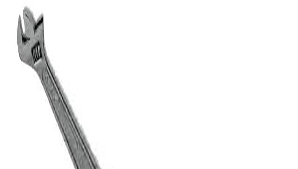Wrench: (12, 8, 97, 169)
